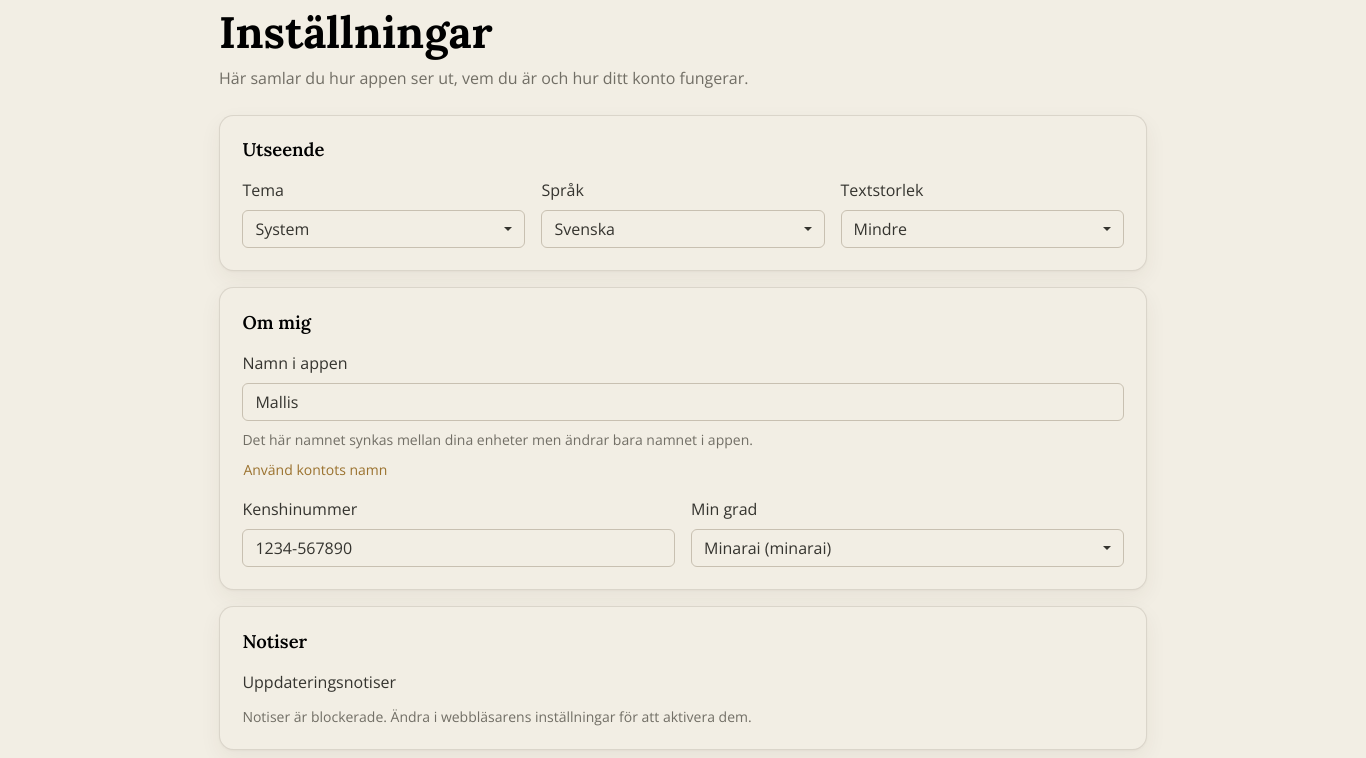
Test: Settings — profile and structure › can return to using the account name
Step 1. Click the button "Använd kontots namn" → (315, 469), box 242,458 -> 388,481
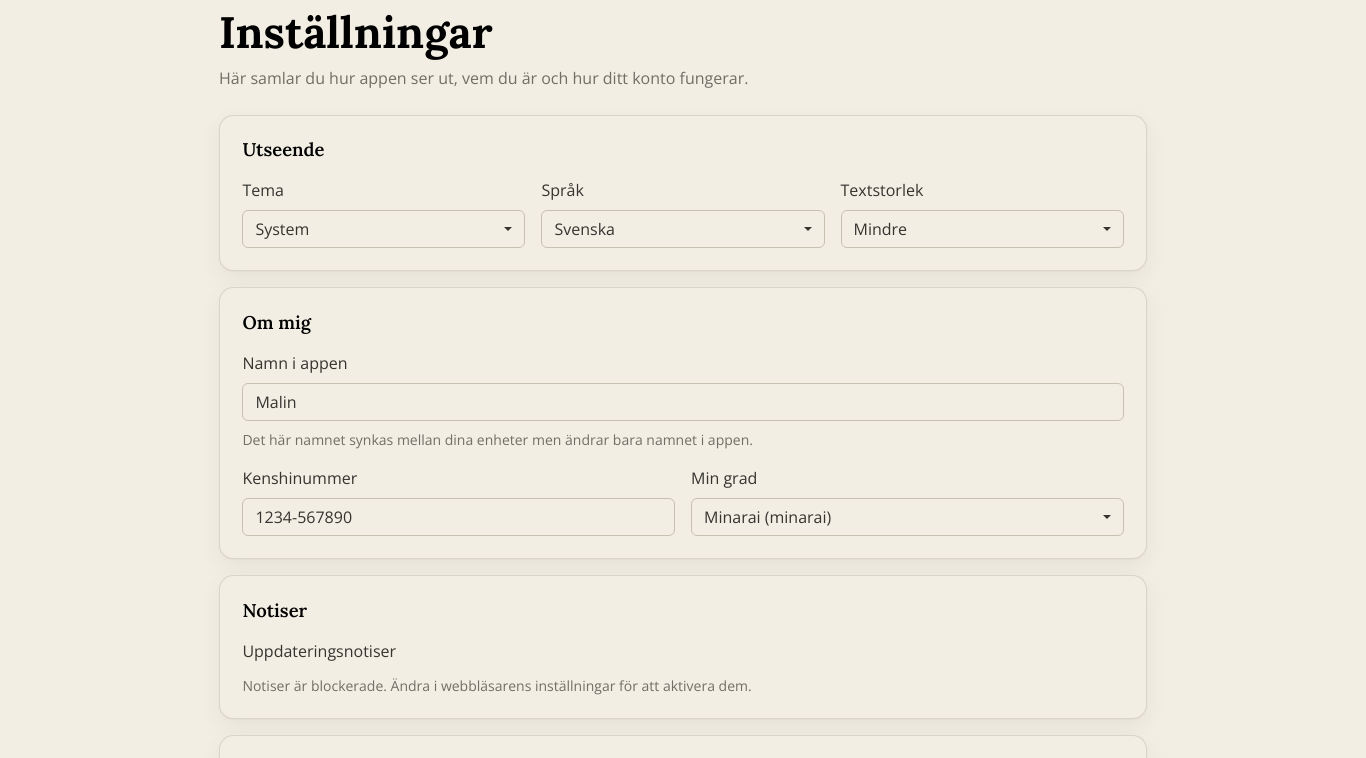
Expected: the field labelled "Namn i appen" holds "Malin", 242,383 -> 1124,421
